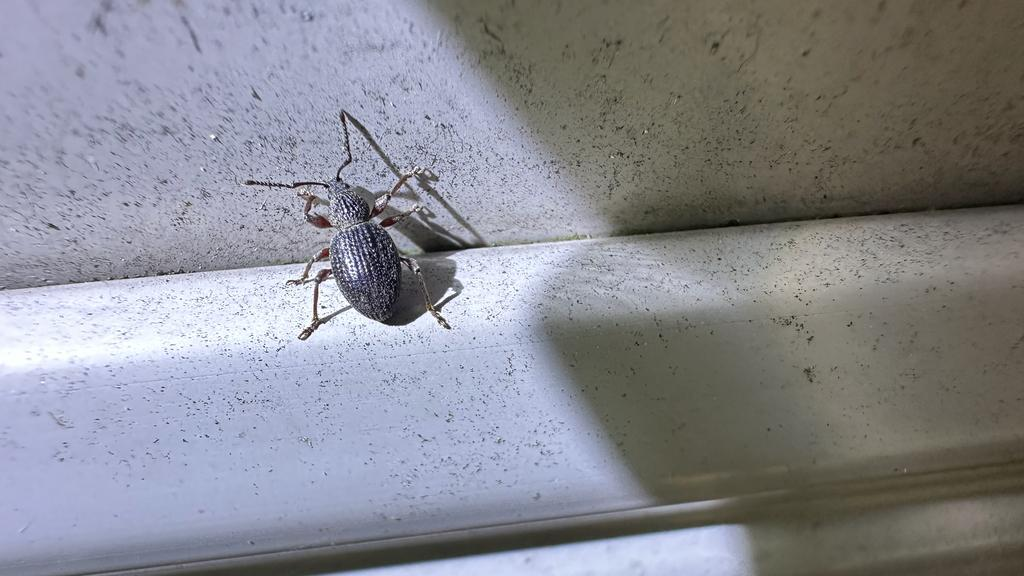weevils: (209, 97, 494, 367)
